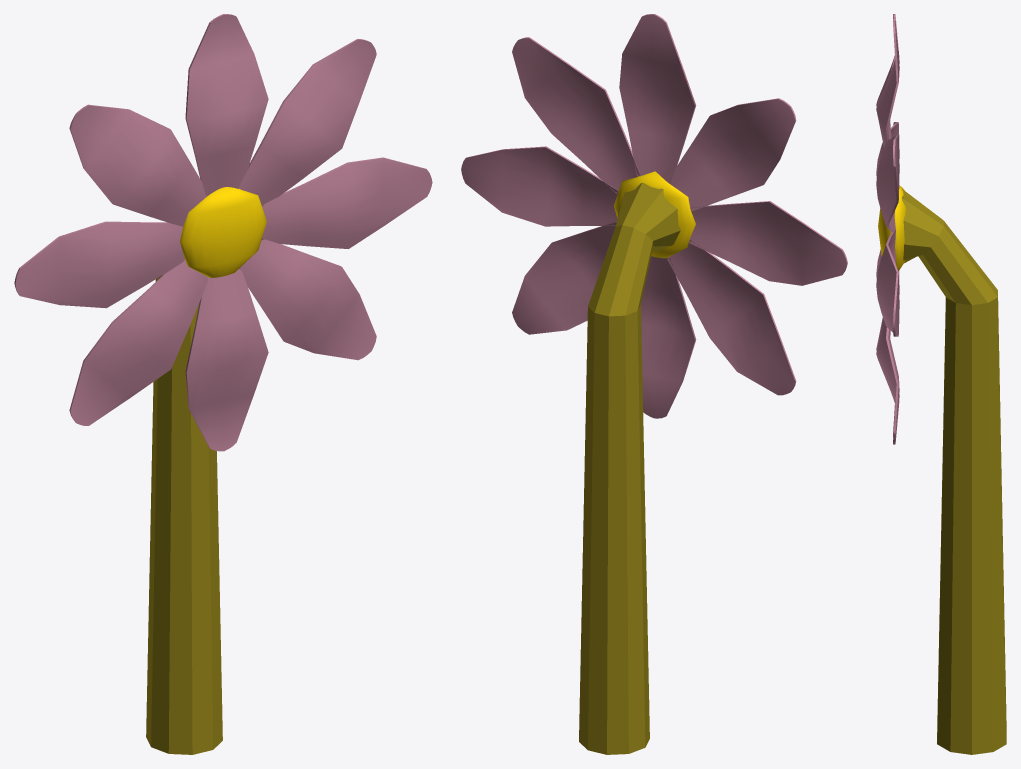
The model's file is FlowerV2.obj.
3 views of the same model, side by side, from view 1: azimuth 30°, elevation 25°; view 2: azimuth 150°, elevation 25°; view 3: azimuth 270°, elevation 25° (orthographic). The views are drawn at different scales.
Parts seen in each view (by area): view 1: pCylinder3; view 2: pCylinder3; view 3: pCylinder3.
Part boxes in pixels (x1,y1,x2,y2): pCylinder3: (14,14,432,754); pCylinder3: (461,14,847,754); pCylinder3: (876,14,1006,754).
Bounding box in the file's own units: 0.6916 × 1.2 × 0.1977.
3 materials, 1 textured.
